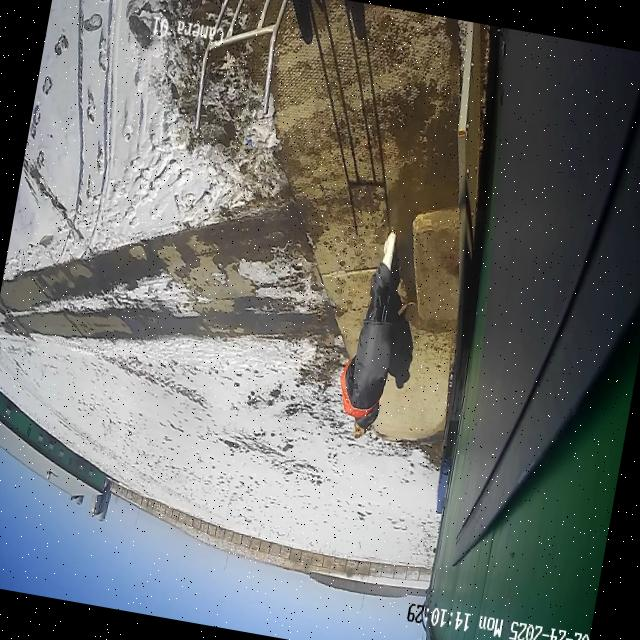Red uniform: (329, 224, 416, 444)
